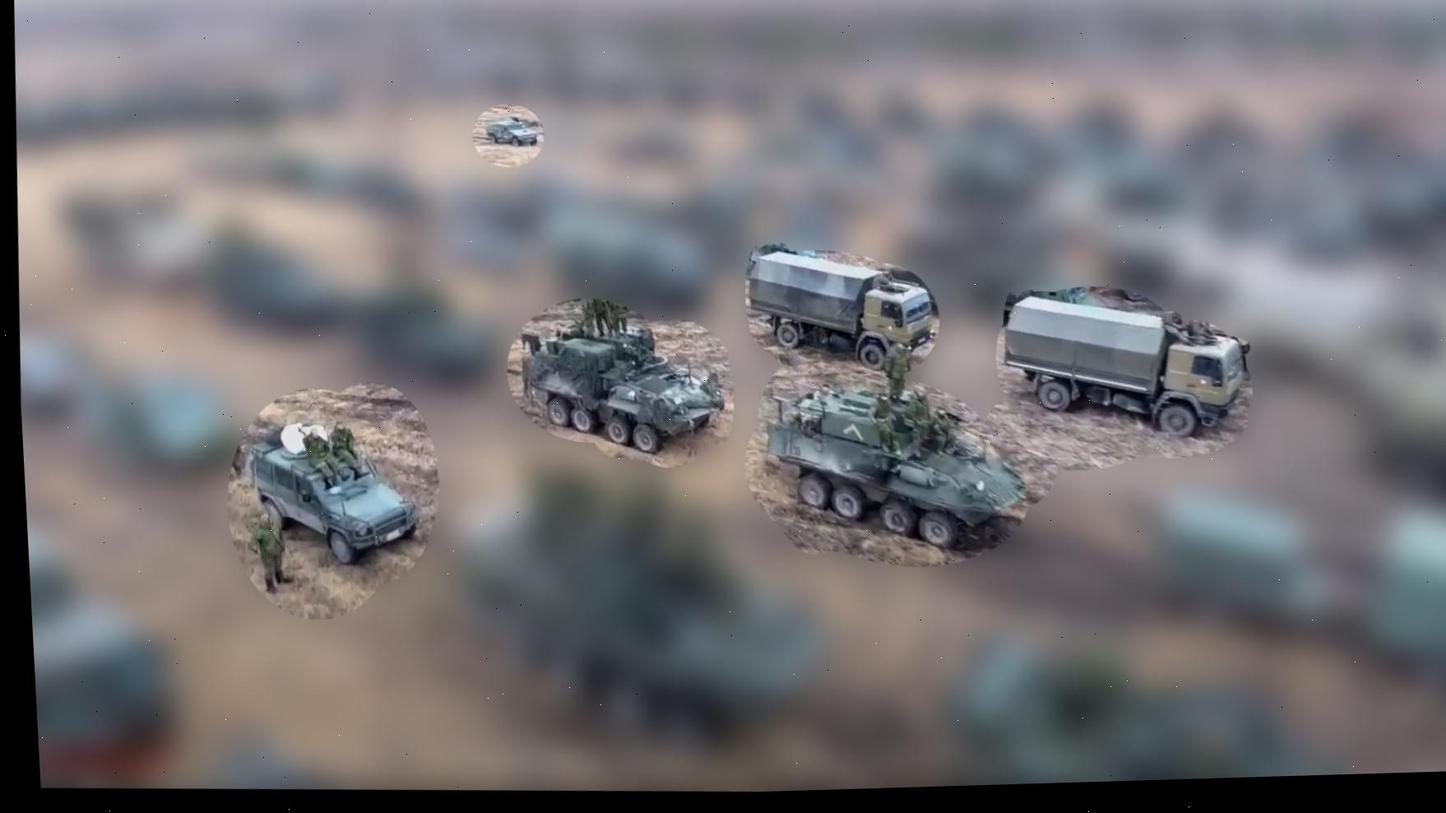armored_car: (758, 375, 1039, 557), (514, 316, 728, 460), (239, 415, 428, 568), (479, 111, 543, 153)
truck: (998, 289, 1254, 449), (740, 239, 945, 380)
